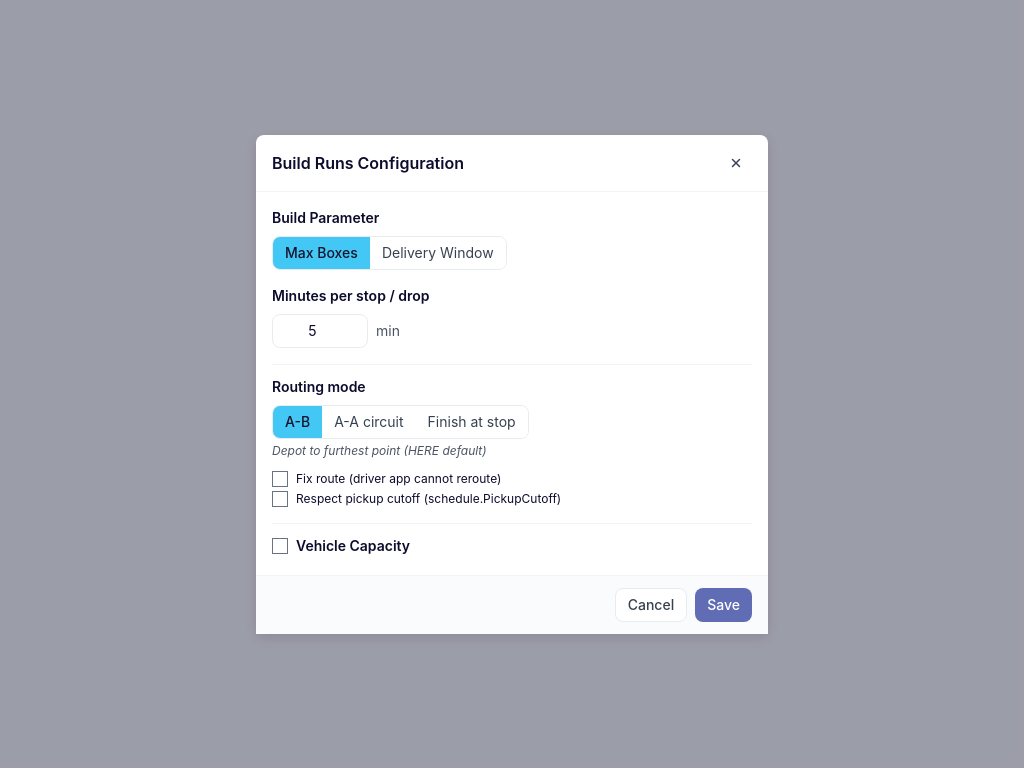
Test: BuildConfigModal › warns Select jobs first inside the finish-at picker when selectedJobs is empty
Click the radio button "Finish at stop" at x=472, y=422, box 416,406 -> 528,438
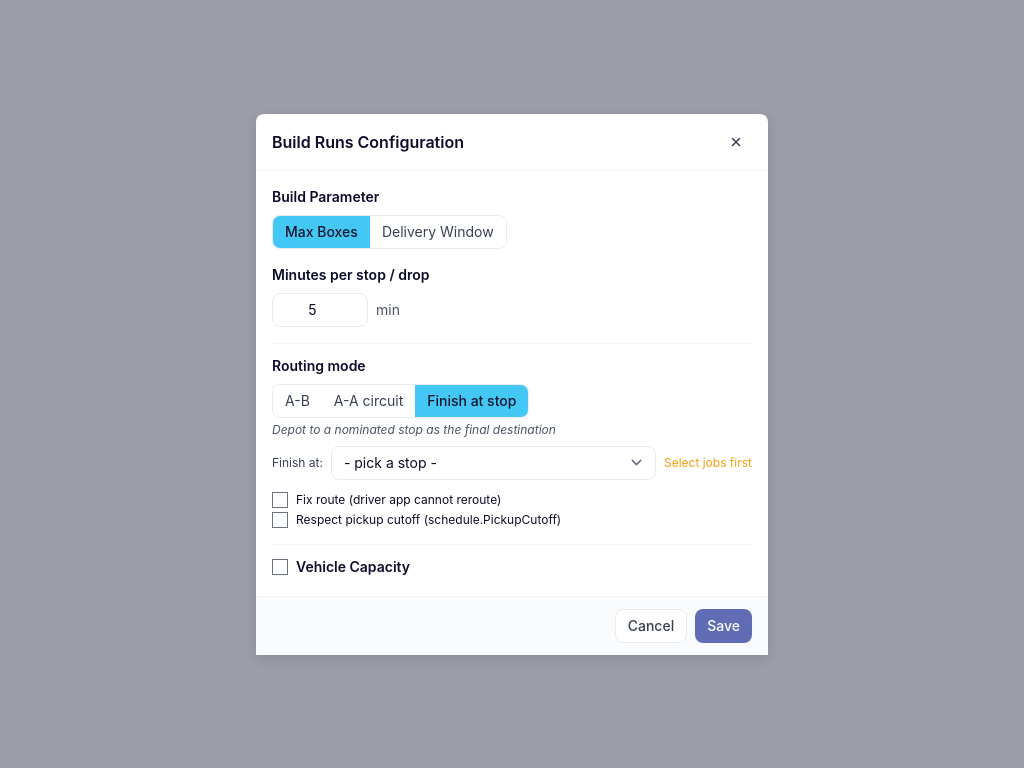
Expected: the text "Select jobs first" is shown, 664,454 -> 752,470
